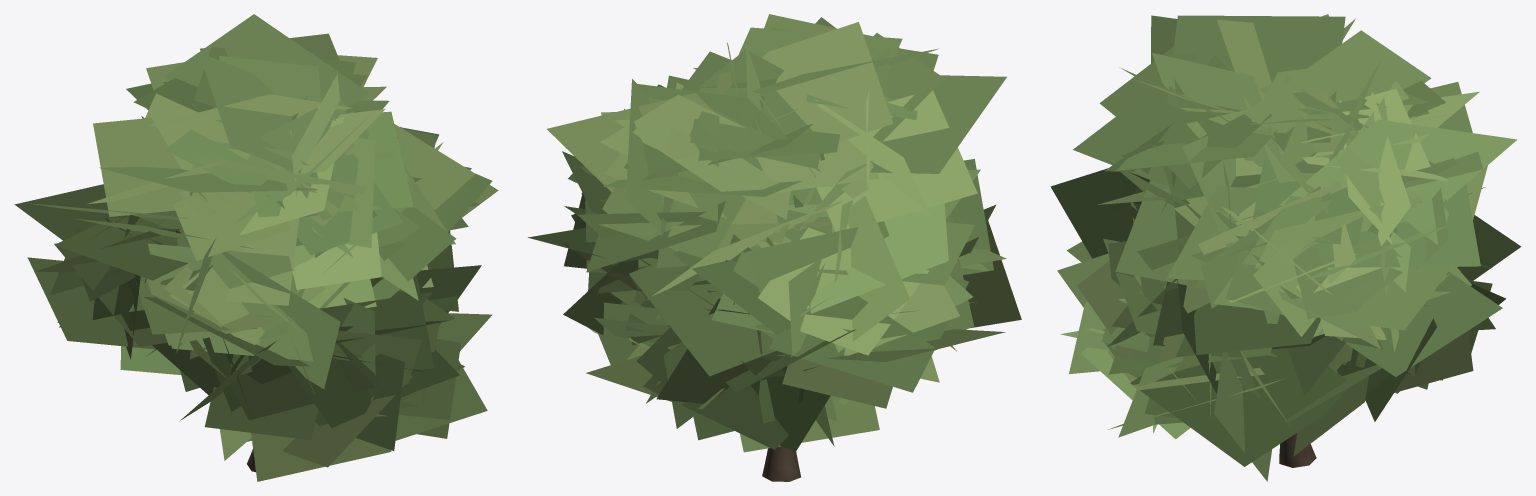
The model's file is columnar_lod1.glb.
3 renders of one model, left to right at view 1: azimuth 30°, elevation 25°; view 2: azimuth 150°, elevation 25°; view 3: azimuth 270°, elevation 25°, orthographic. The views are drawn at different scales.
Parts seen in each view (by area): view 1: columnar_lod1; view 2: columnar_lod1; view 3: columnar_lod1.
Part boxes in pixels (bbox=[...]): columnar_lod1: bbox=[14, 14, 498, 481]; columnar_lod1: bbox=[528, 14, 1021, 481]; columnar_lod1: bbox=[1050, 14, 1521, 481].
Bounding box in the file's own units: 1 × 1 × 0.9706.
